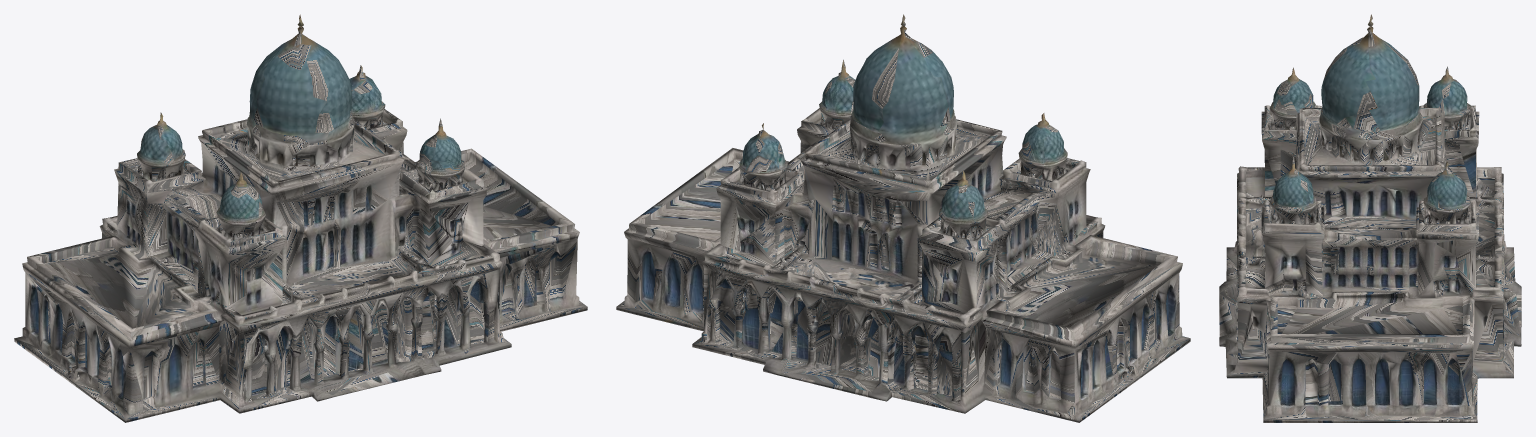
Rendered from Azure_Dome_Palace.glb.
The picture shows the model from 3 angles, left to right: view 1: azimuth 30°, elevation 25°; view 2: azimuth 150°, elevation 25°; view 3: azimuth 270°, elevation 25°; orthographic projection. The views are drawn at different scales.
Visible parts, largest first — view 1: Azure_Dome_Palace; view 2: Azure_Dome_Palace; view 3: Azure_Dome_Palace.
Part boxes in pixels (box(x1,y1,x2,y2)): Azure_Dome_Palace: box(14, 14, 587, 422); Azure_Dome_Palace: box(616, 14, 1190, 422); Azure_Dome_Palace: box(1219, 14, 1521, 422).
Size of the model in its own units: 1.9 by 1.24 by 1.12.
1 material, 1 textured.
